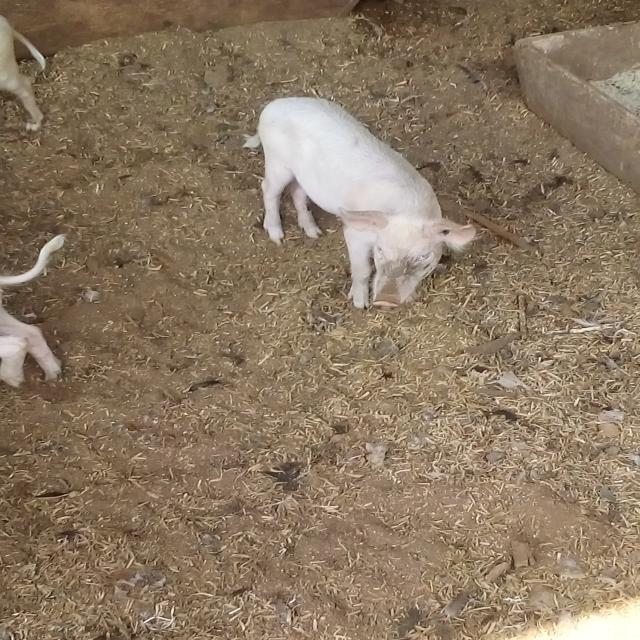pig: (210, 75, 494, 338)
